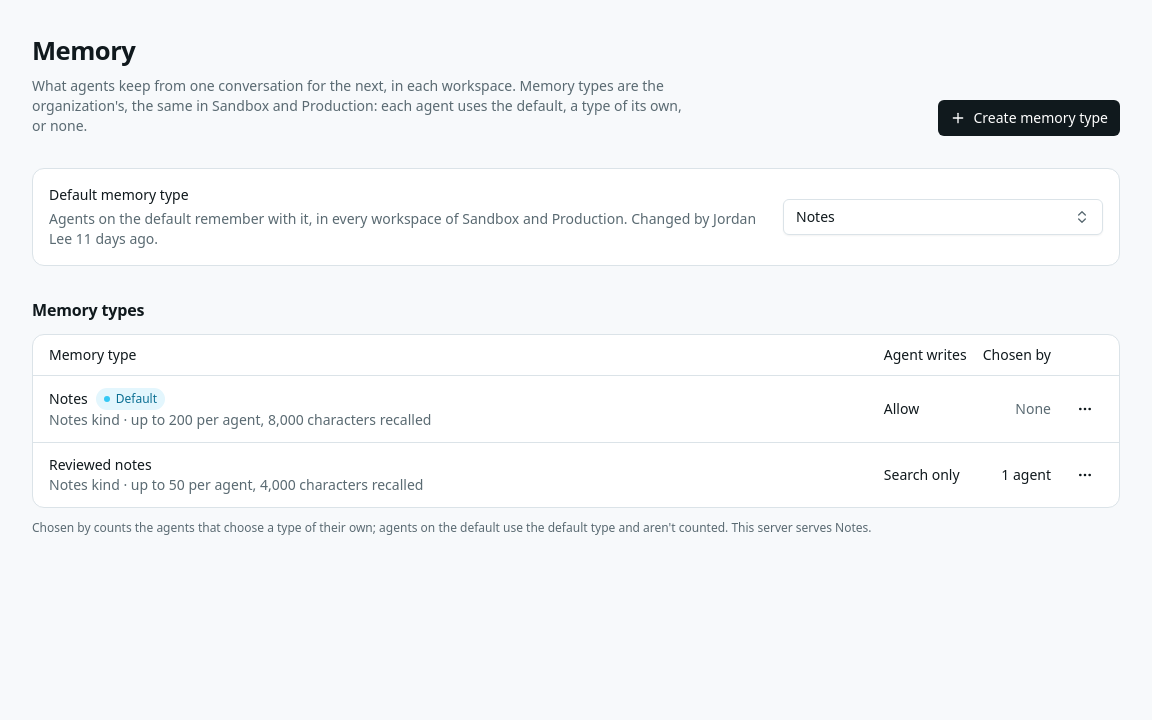
Test: the Memory page › creating a type › says how to fix a refusal no field shows
Click the button "Create memory type". click: (1029, 118)
box: left=938, top=100, right=1120, bottom=136
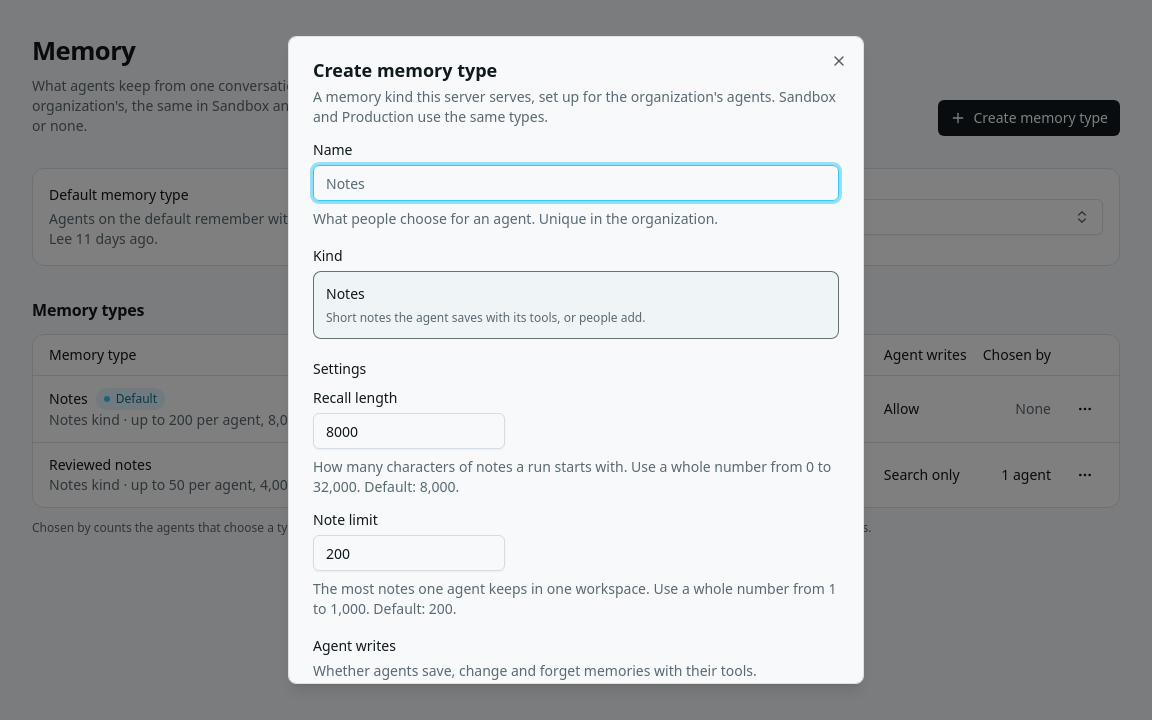
Type "Team notes" into the field labelled "Name". click: (576, 183)
box: left=313, top=165, right=839, bottom=201
(page scrolled)
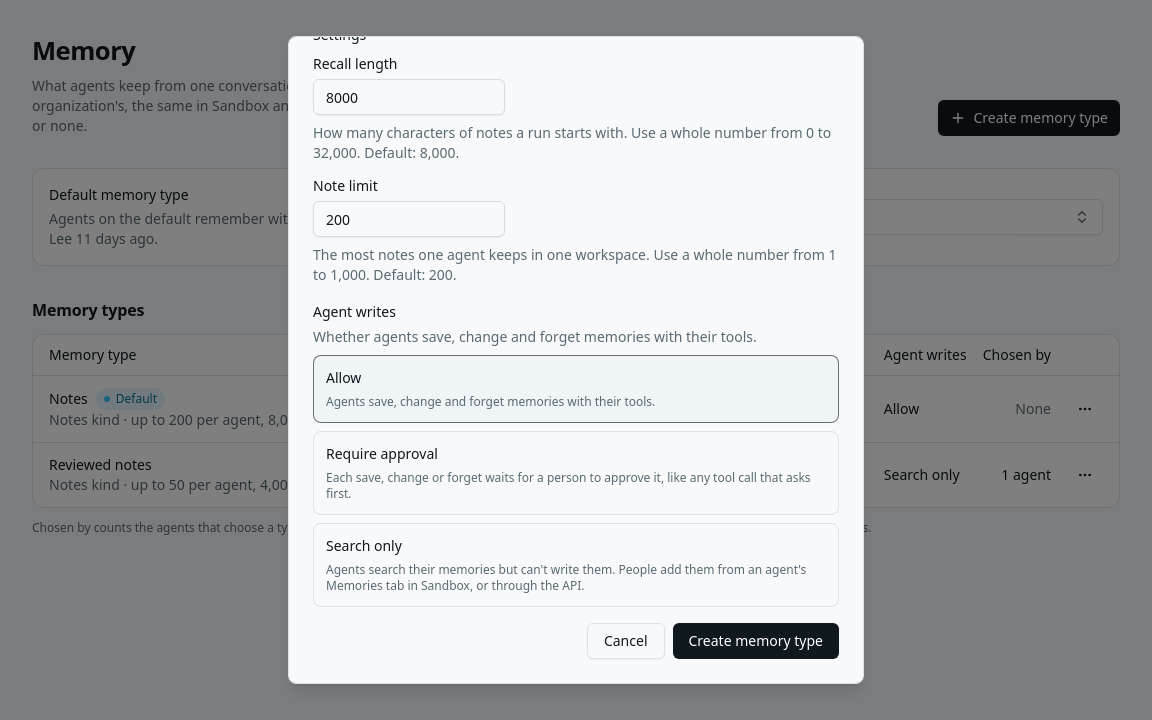
Click the button "Create memory type". click: (756, 641)
box: left=672, top=623, right=839, bottom=659
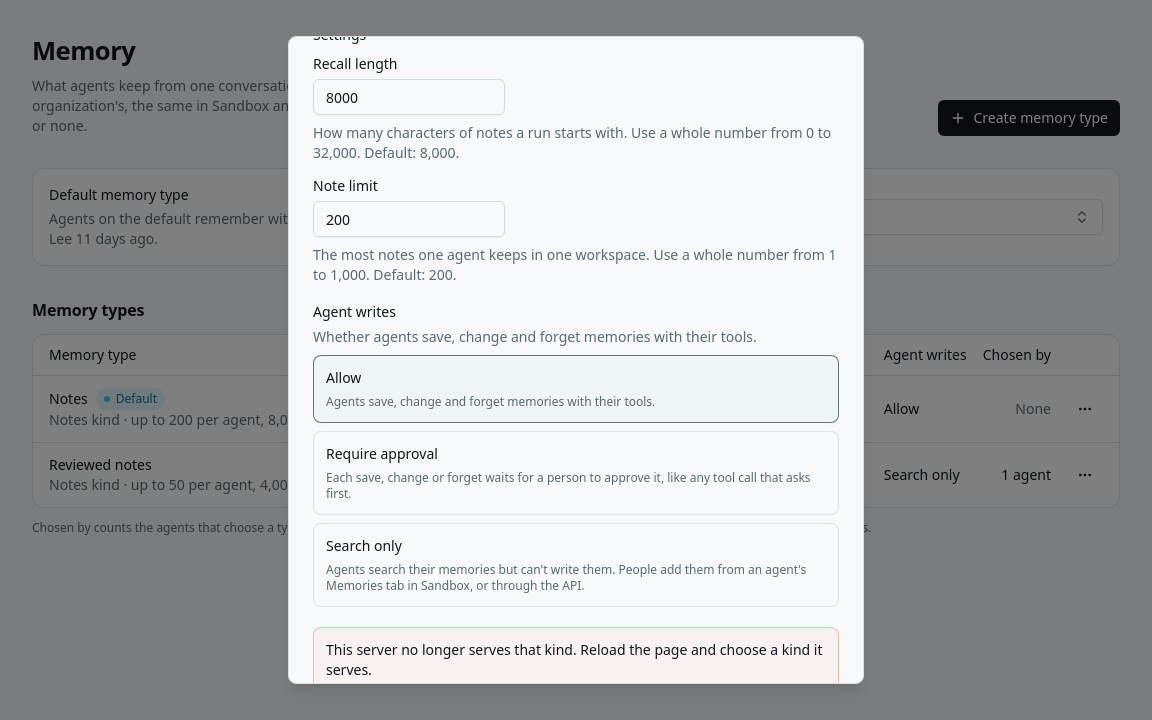
Now the message shows "This server no longer serves that kind. Reload the page and choose a kind it serves.", box left=326, top=640, right=822, bottom=679
